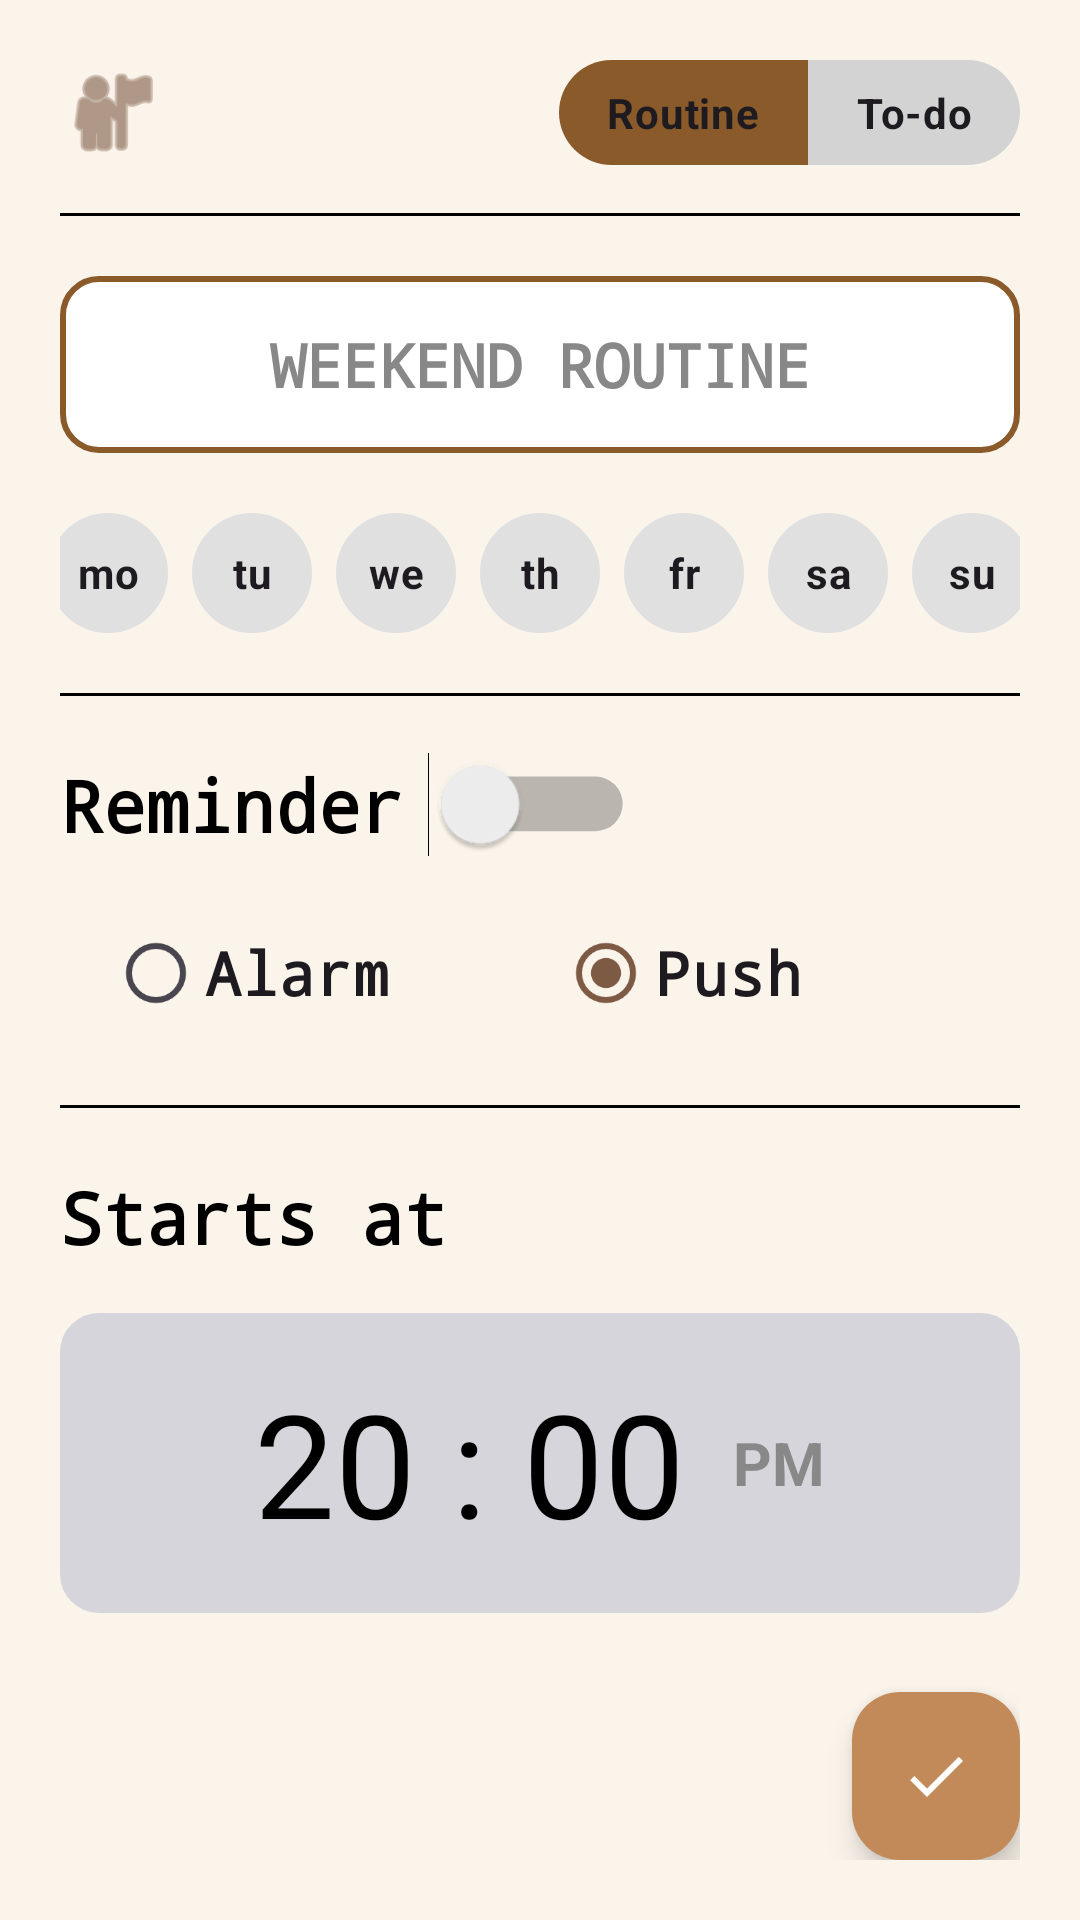

Icon click points for this 1080w x 1920h phone screenshot, format point (x, y):
done: point (936, 1776)
